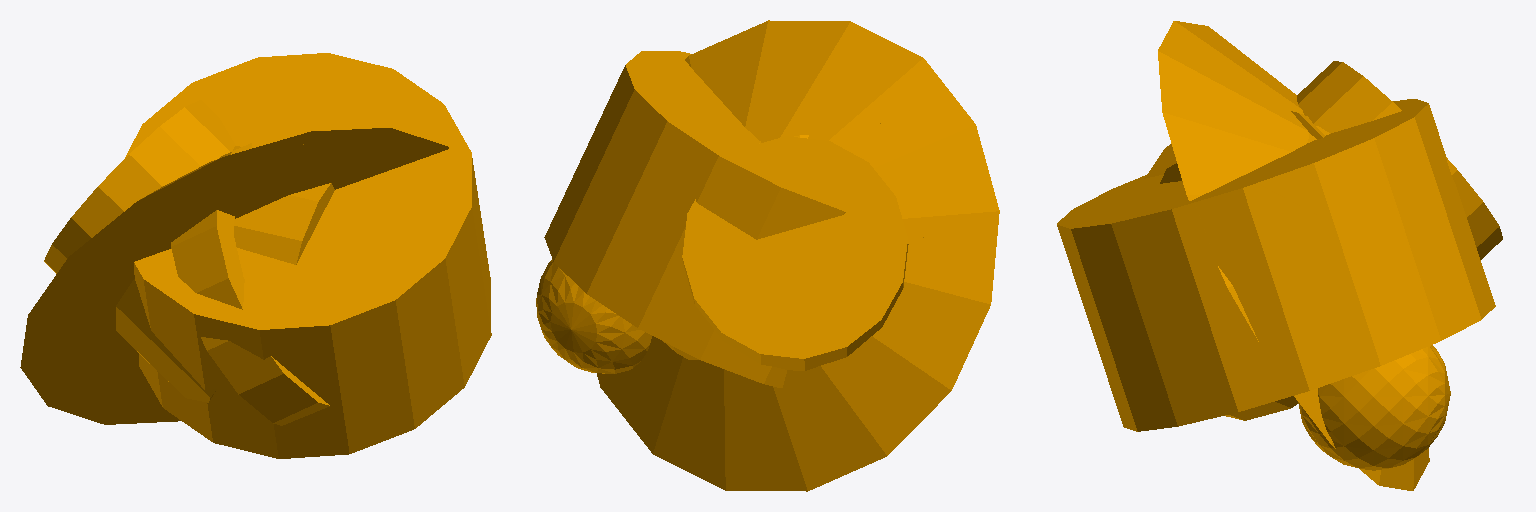
The robot description file, URDF, robot "shapegen":
<robot name="shapegen">
    <link name="link1">
        <collision>
            <origin xyz="0 0 1" rpy="0 0 0"/>
            <geometry>
              <mesh filename="shapegen.stl"/>
            </geometry>
        </collision>

        <visual>
          <origin xyz="0 0 1" rpy="0 0 0"/>
          <geometry>
            <mesh filename="shapegen.stl"/>
          </geometry>
        </visual>

        <inertial>
          <origin xyz="0 0 1" rpy="0 0 0"/>
          <mass value="1625.2303343127626"/>
          <inertia
              ixx="321.91023"
              ixy="18.48951"
              ixz="-5.11025"
              iyy="373.74065"
              iyz="4.33329"
              izz="424.63456"/>
          </inertial>
    </link>
</robot>

--- Render facts (derived) ---
3 views of the same robot in one strip: view 1: azimuth 30°, elevation 25°; view 2: azimuth 150°, elevation 25°; view 3: azimuth 270°, elevation 25° (orthographic).
Robot: shapegen — 1 links, 0 joints (none); root link link1; default pose: every joint at zero.
Visible links, largest first — view 1: link1; view 2: link1; view 3: link1.
Boxes of the visible links, <box> form: link1: <box>20,53,491,458</box>; link1: <box>536,20,999,491</box>; link1: <box>1057,21,1502,490</box>.
Bounding box of the posed robot: 1.95 × 1.61 × 1.63 m (x, y, z).
1 mesh visuals loaded from 1 distinct referenced files (1 binary STL).